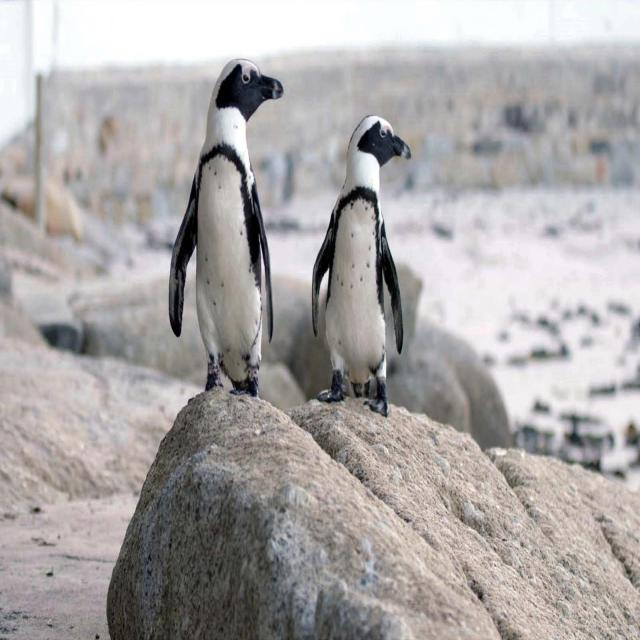penguin: (168, 58, 283, 396), (311, 115, 410, 416)
